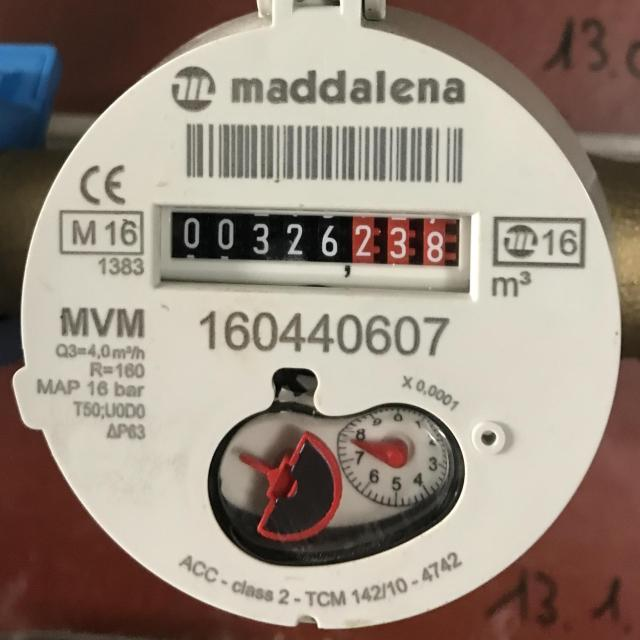gaz_meter: (20, 17, 620, 628)
indication: (170, 212, 461, 266)
